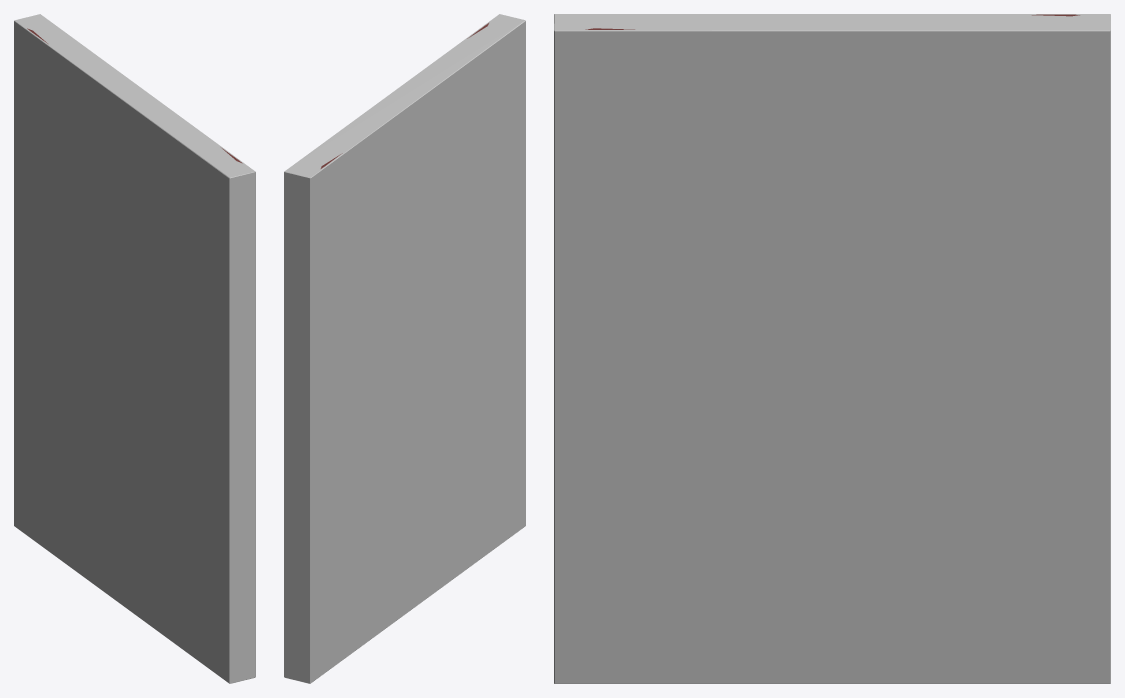
Rendered from SM_SJJ_DoorframeB.fbx.
3 renders of one model, left to right at view 1: azimuth 30°, elevation 25°; view 2: azimuth 150°, elevation 25°; view 3: azimuth 270°, elevation 25°, orthographic. The views are drawn at different scales.
Parts seen in each view (by area): view 1: SM_SJJ_DoorframeB_ConvexHulls; view 2: SM_SJJ_DoorframeB_ConvexHulls; view 3: SM_SJJ_DoorframeB_ConvexHulls.
Part boxes in pixels (x1,y1,x2,y2): SM_SJJ_DoorframeB_ConvexHulls: [14, 14, 255, 683]; SM_SJJ_DoorframeB_ConvexHulls: [284, 14, 525, 683]; SM_SJJ_DoorframeB_ConvexHulls: [554, 14, 1110, 683].
Bounding box in the file's own units: 19.25 × 268 × 347.
2 materials, 1 textured.
